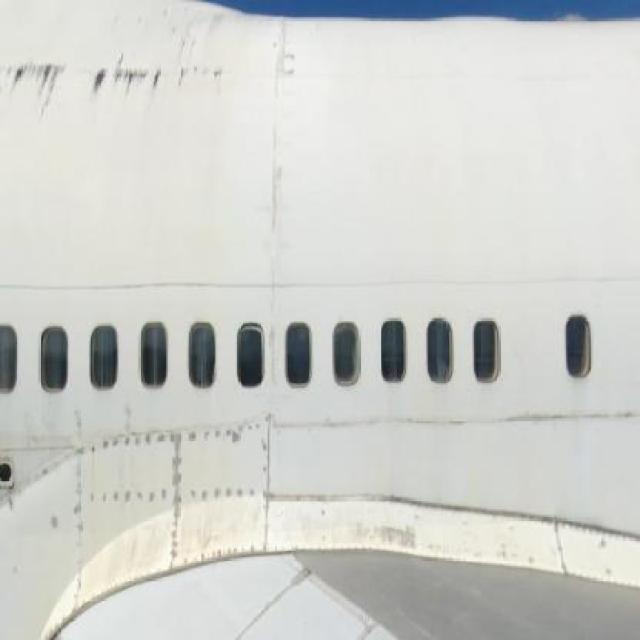Missing-Rivet: (62, 421, 283, 553)
Scartch: (2, 43, 245, 129), (343, 514, 426, 557)
